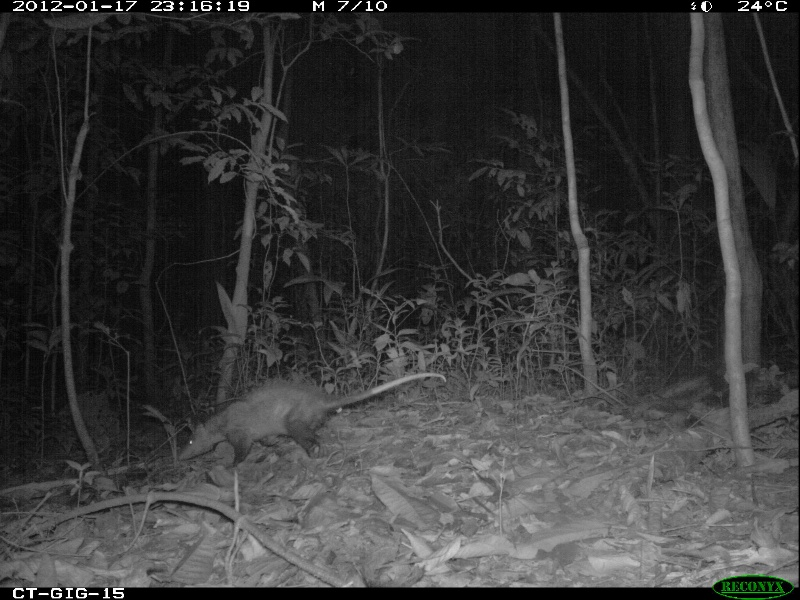opossum: (172, 344, 455, 477)
